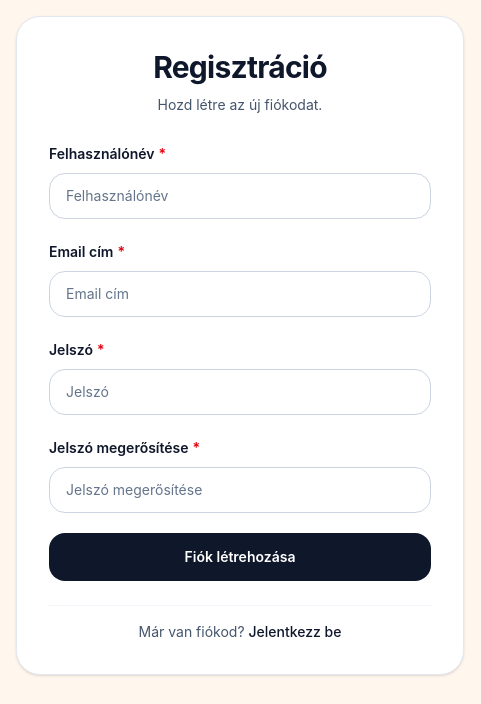
Test: RegisterPage › shows an error when the two passwords do not match
The image size is (481, 704).
Type "anna" into the field labelled "Felhasználónév*" at (240, 196), box x1=49 y1=173 x2=431 y2=219
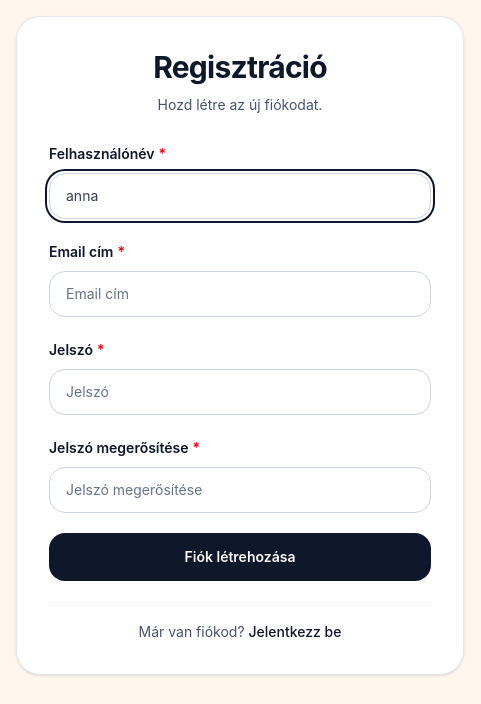
Type "anna@gmail.com" into the field labelled "Email cím*" at (240, 294), box x1=49 y1=271 x2=431 y2=317
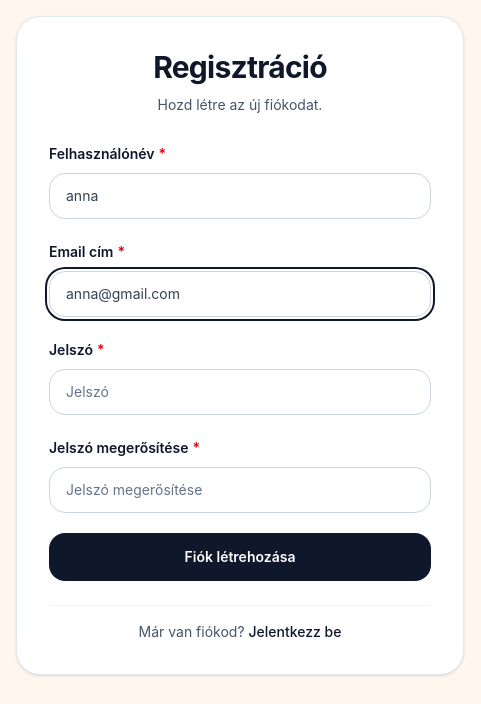
Type "titok123" into the password field labelled "Jelszó*" at (240, 392), box x1=49 y1=369 x2=431 y2=415
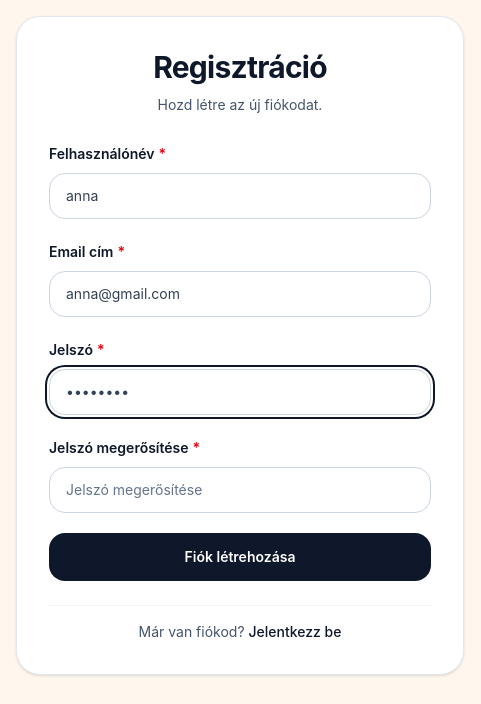
Type "masjelszo123" into the password field labelled "Jelszó megerősítése*" at (240, 490), box x1=49 y1=467 x2=431 y2=513
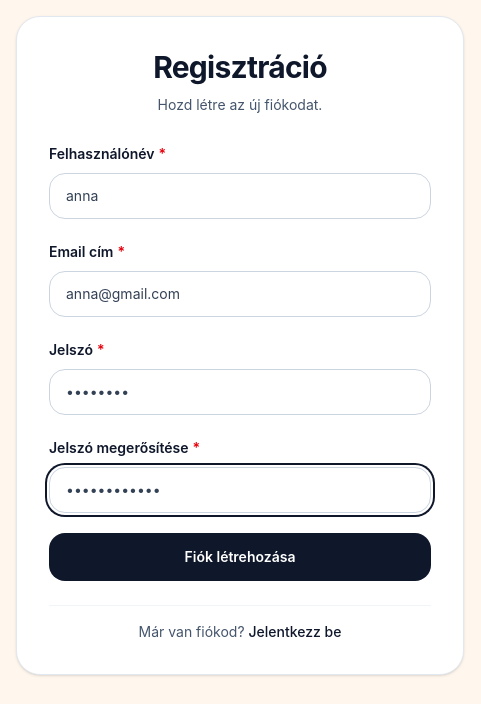
Click the button "Fiók létrehozása" at (240, 557), box x1=49 y1=533 x2=431 y2=581
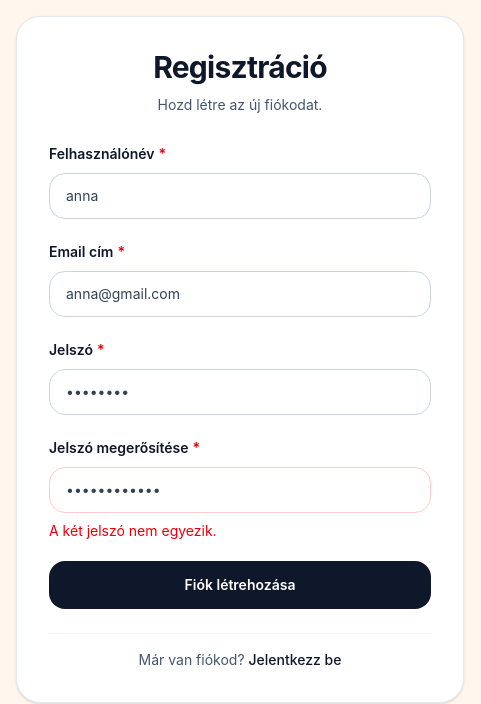
Expected: the text "A két jelszó nem egyezik." is shown, x1=49 y1=522 x2=217 y2=539
